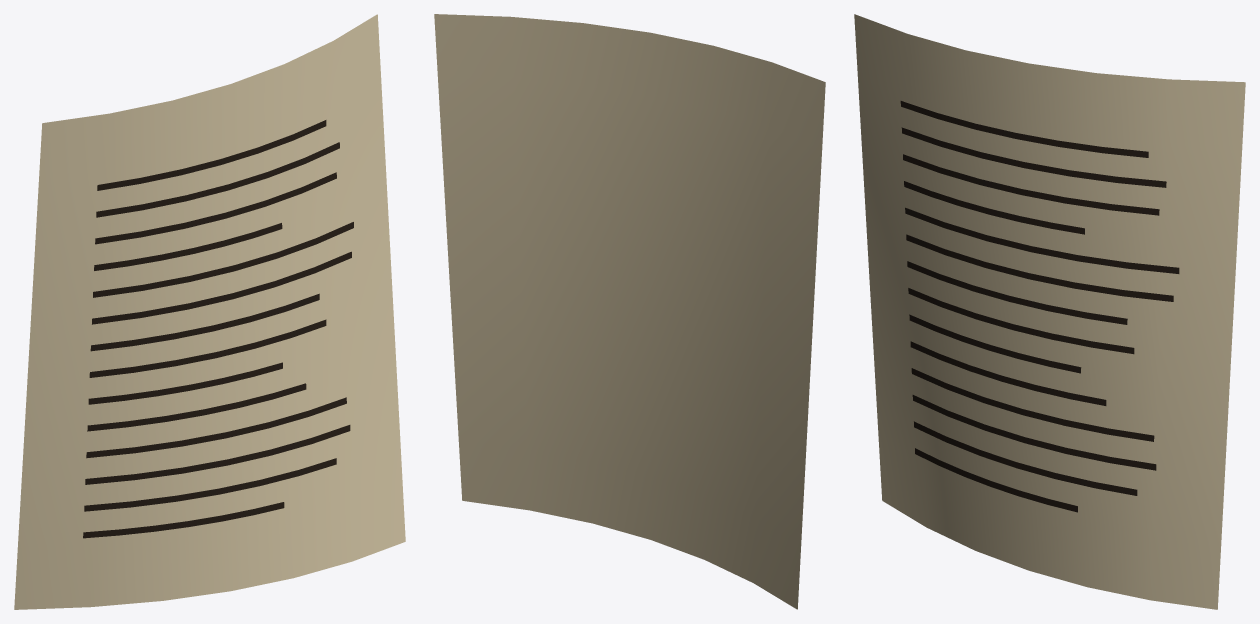
The model's file is page_loose.glb.
3 renders of one model, left to right at view 1: azimuth 30°, elevation 25°; view 2: azimuth 150°, elevation 25°; view 3: azimuth 330°, elevation 25°, orthographic.
Visible parts, largest first — view 1: page_loose; view 2: page_loose; view 3: page_loose.
Boxes of the visible parts, box(x1,y1,x2,y2) form: page_loose: box(14, 14, 405, 609); page_loose: box(434, 14, 825, 609); page_loose: box(854, 14, 1245, 609).
Size of the model in its own units: 0.3 by 0.4 by 0.0533.
